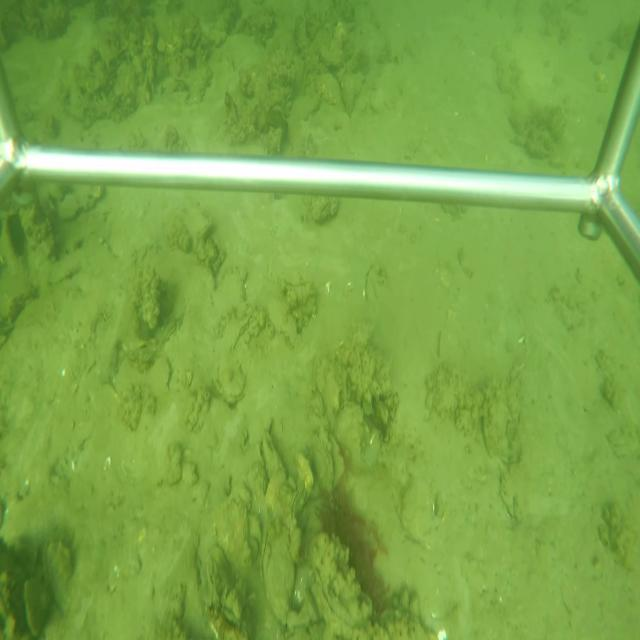Oyster-Closed: (258, 522, 296, 636), (312, 569, 363, 638), (335, 399, 365, 473), (213, 360, 247, 403), (262, 428, 287, 481), (229, 315, 252, 356), (292, 92, 323, 120), (150, 354, 172, 390), (290, 481, 303, 523), (191, 215, 211, 238), (319, 45, 342, 65)
Oyster-Indeterminate: (398, 476, 436, 542), (21, 576, 52, 636), (498, 465, 517, 519), (314, 71, 341, 103), (224, 90, 240, 124)
